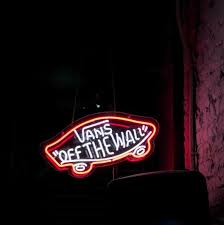vans: (74, 119, 112, 143)
